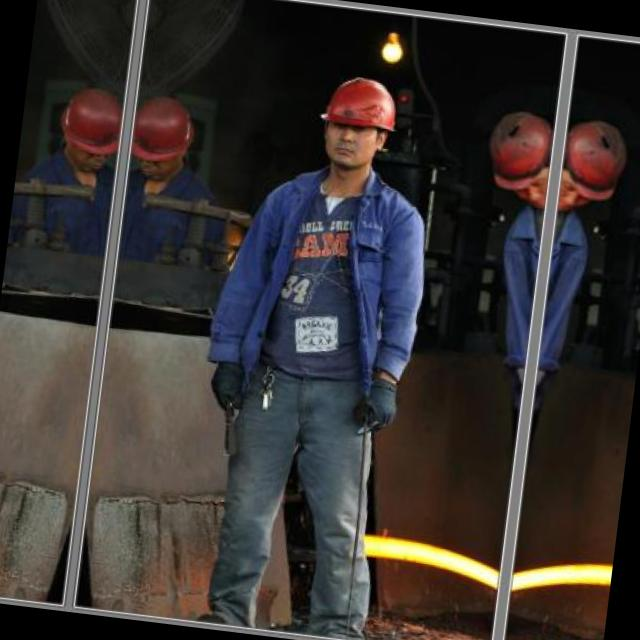helmet: (307, 68, 406, 182), (482, 102, 559, 216), (122, 84, 204, 190), (550, 110, 626, 224), (48, 76, 130, 180)
